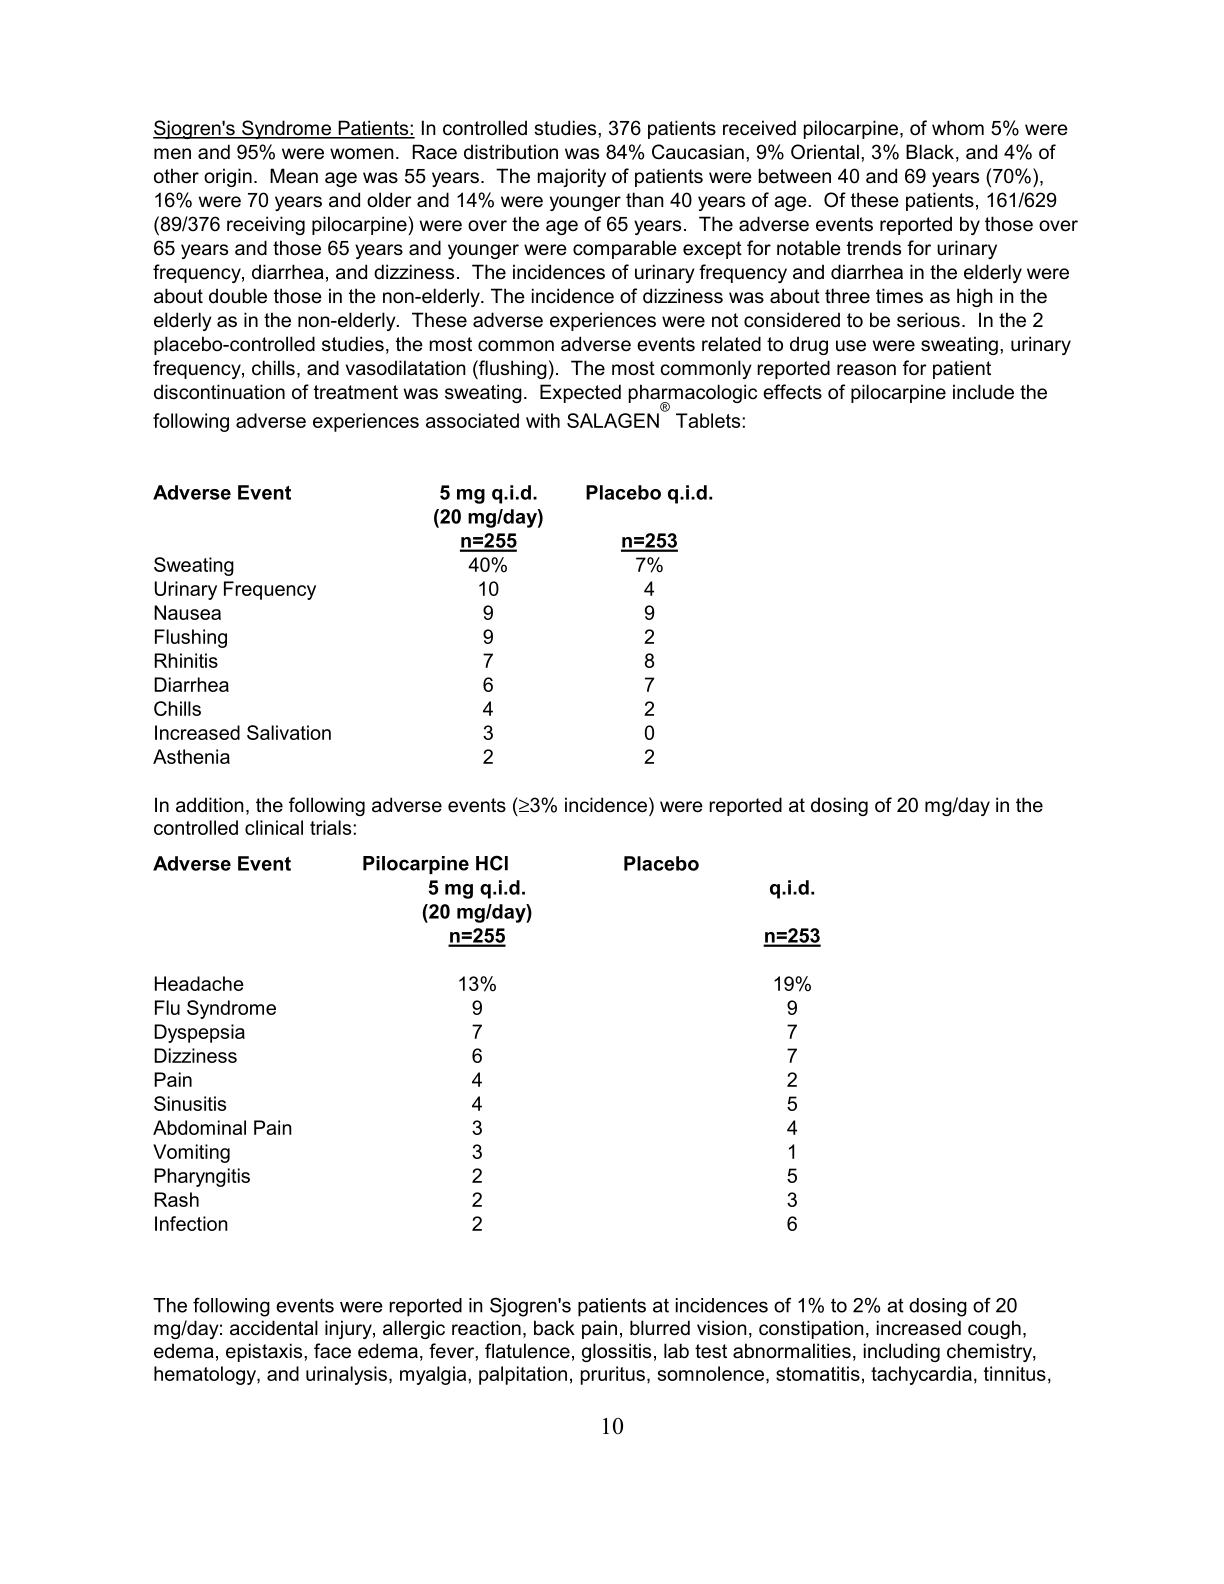nolines: (152, 854, 823, 1234), (149, 483, 717, 768)
